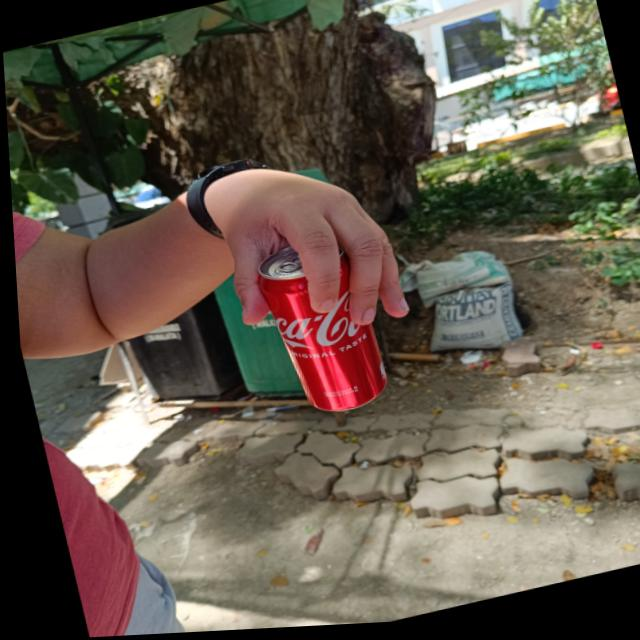coke: (249, 233, 388, 427)
